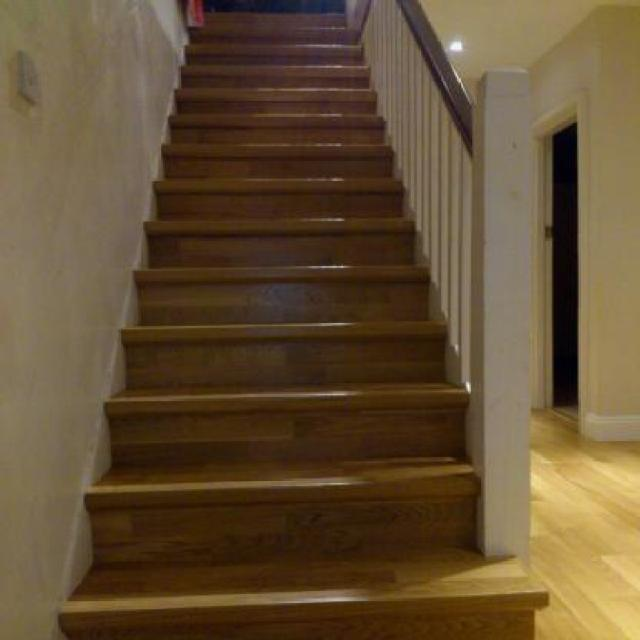stair: (55, 4, 577, 638)
